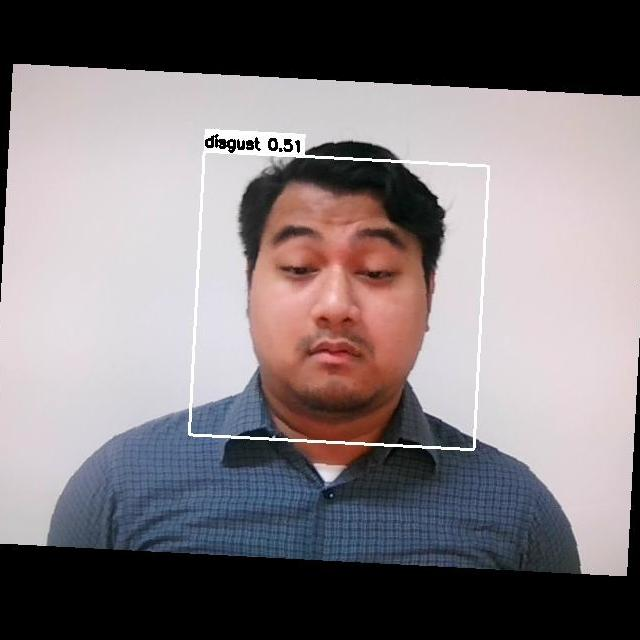Fear: (244, 206, 434, 388)
